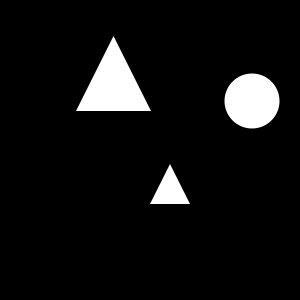rectangle: (224, 74, 280, 128)
triangle: (76, 36, 151, 111), (150, 164, 190, 204)
